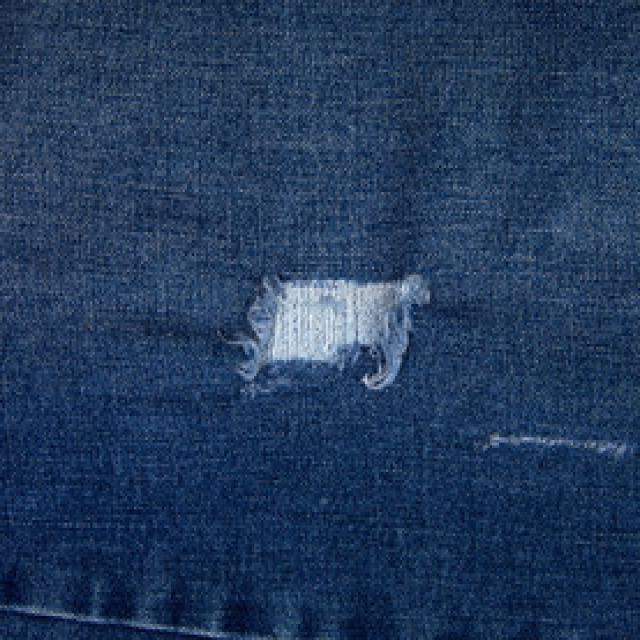Hole: (238, 274, 430, 394)
Line: (478, 430, 624, 454)
